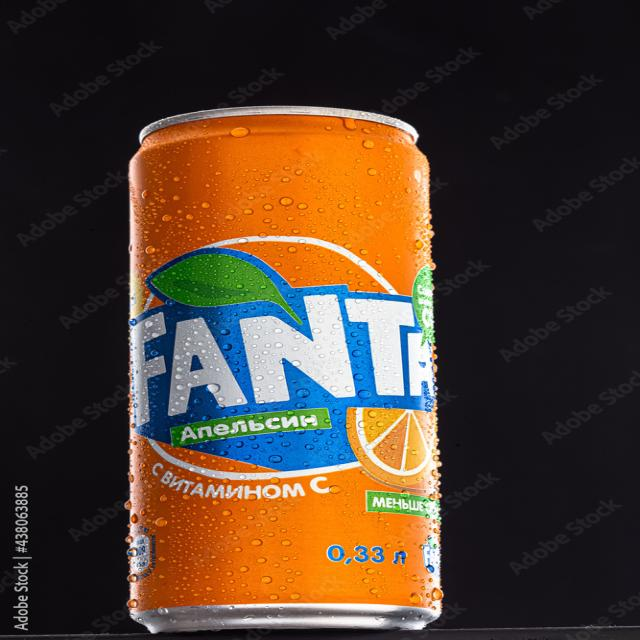fanta: (122, 115, 448, 638)
